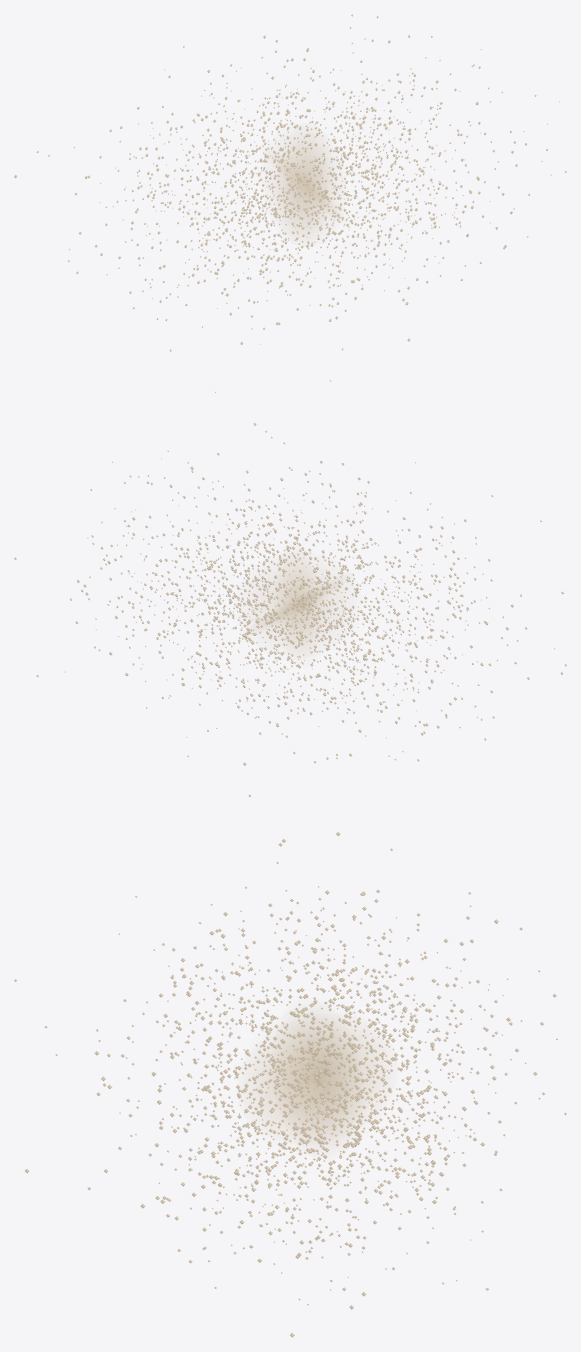
3 renders of one model, top to bottom at view 1: azimuth 30°, elevation 25°; view 2: azimuth 150°, elevation 25°; view 3: azimuth 270°, elevation 25°, orthographic. The views are drawn at different scales.
Size of the model in its own units: 7.25 by 4.54 by 5.51.
